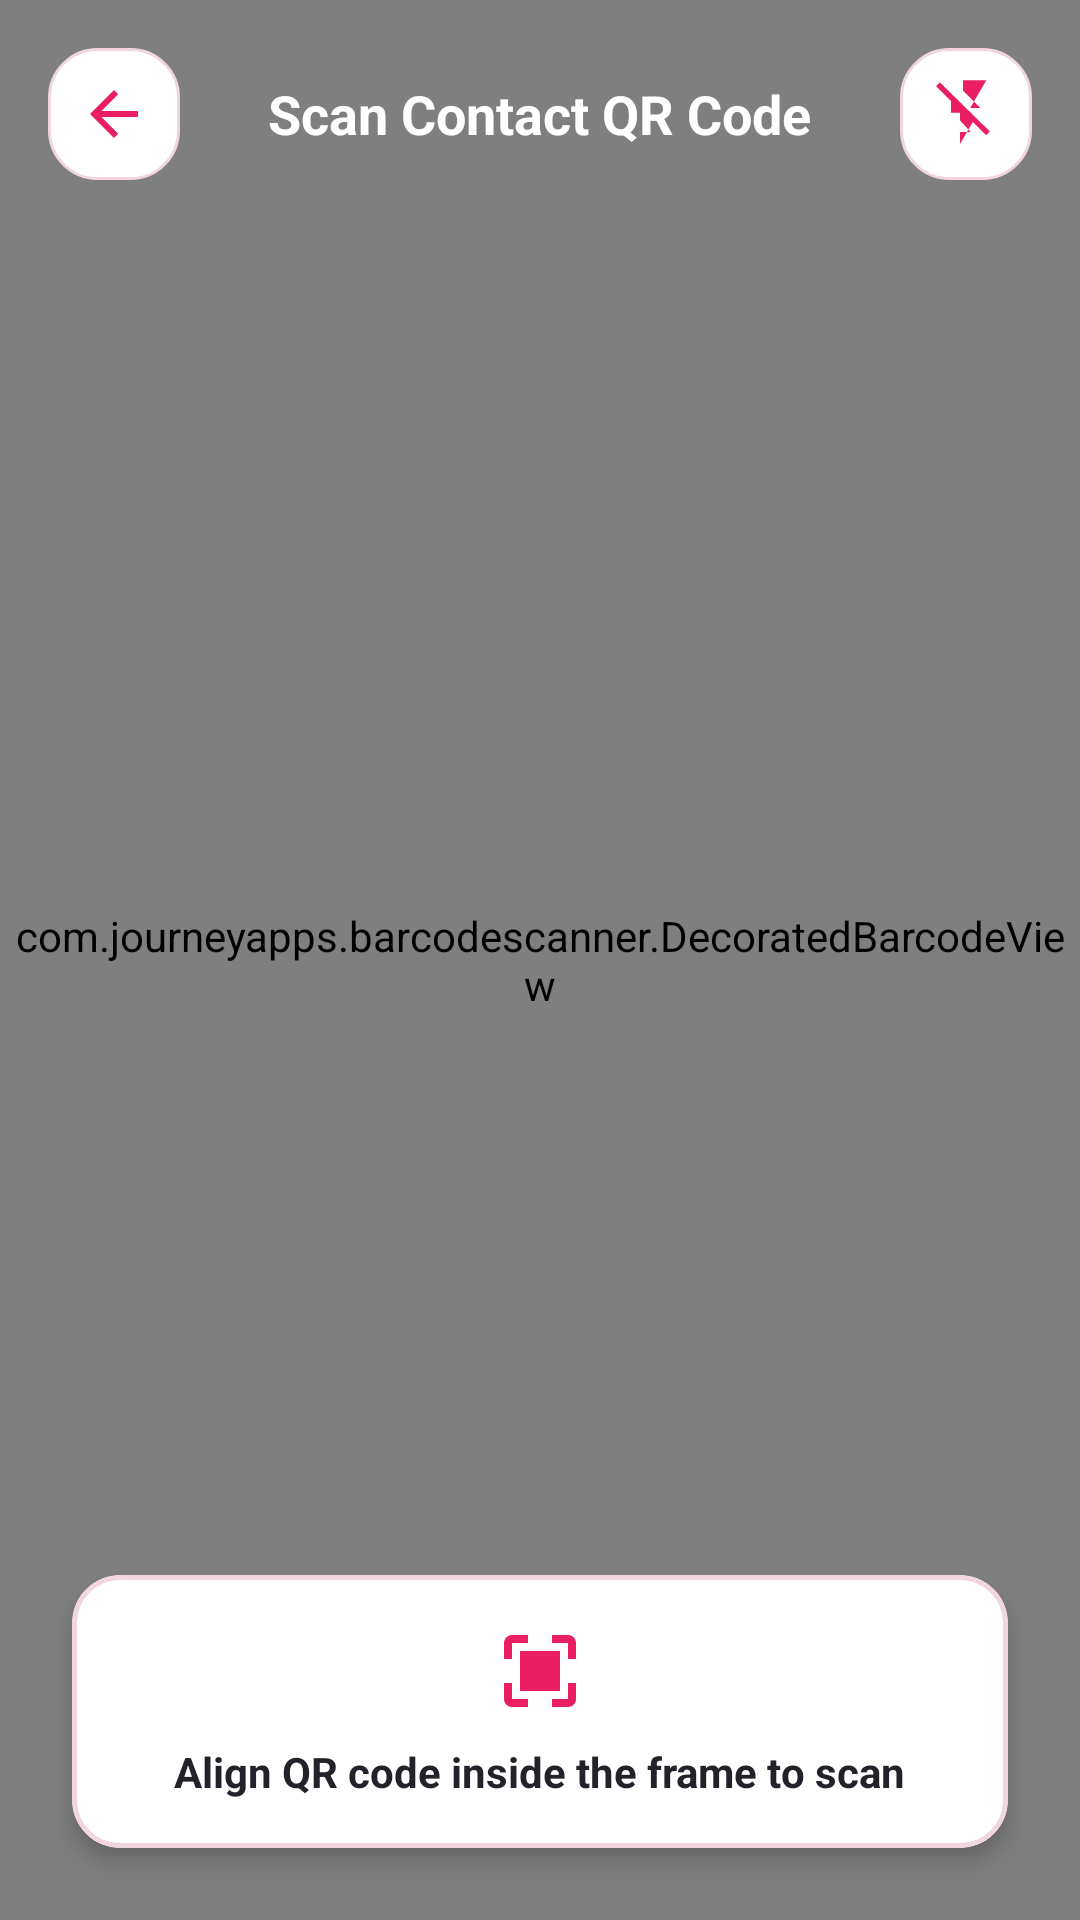

Point at icon controls on the screen. Image size 1080*1920, points as [x,y].
Back to Contacts: [114,114]
Toggle Flashlight: [966,114]
